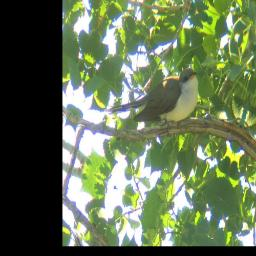Cuckoo: (103, 27, 205, 161)
